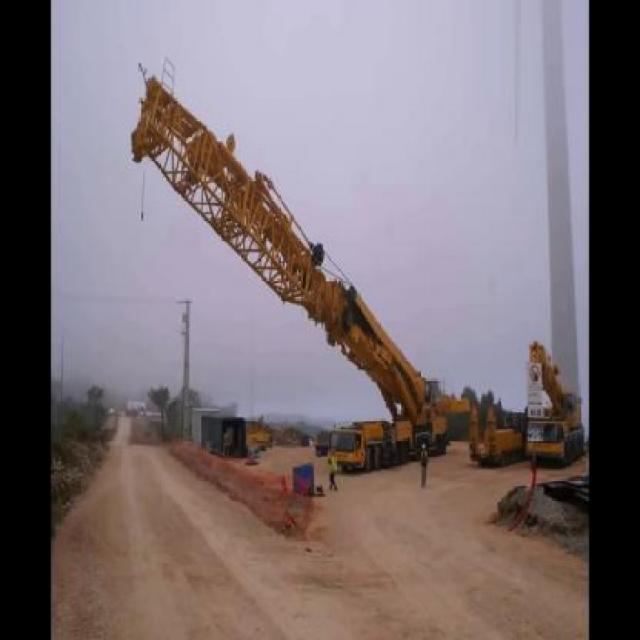Mobile Crane: (128, 69, 447, 471), (520, 345, 586, 467)
